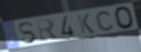4: (61, 14, 76, 39)
C: (95, 10, 116, 33)
K: (76, 12, 96, 35)
O: (113, 5, 136, 30)
R: (35, 18, 60, 43)
S: (18, 21, 39, 45)
